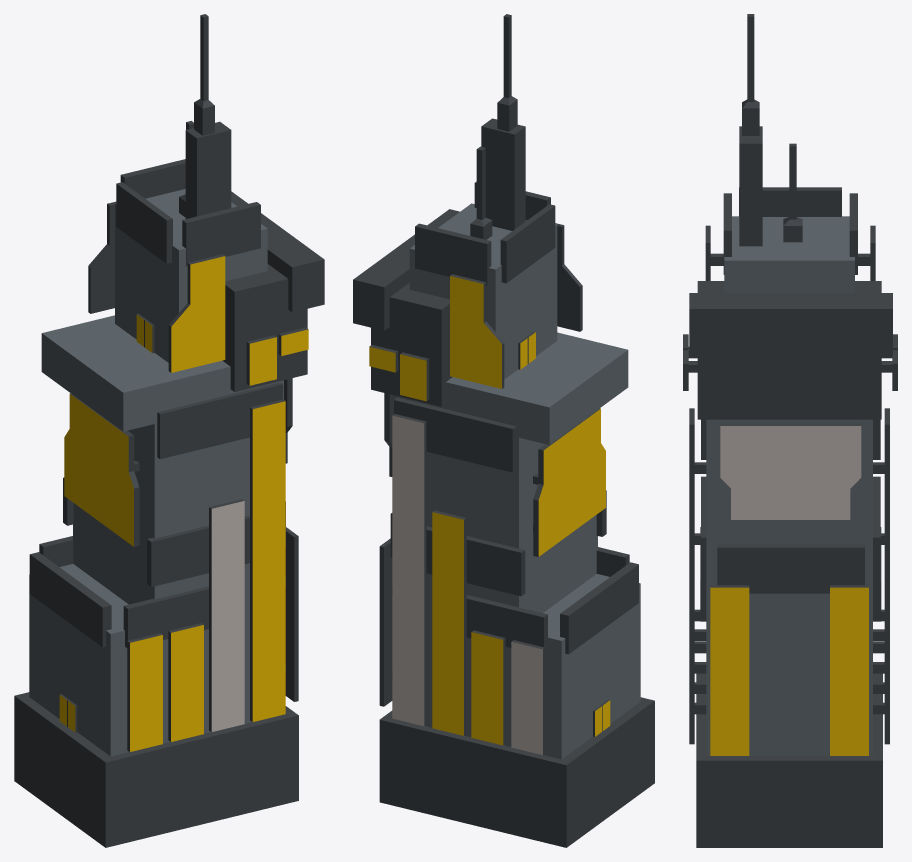
The model's file is SM_Bld_Background_Building_04.fbx.
3 renders of one model, left to right at view 1: azimuth 30°, elevation 25°; view 2: azimuth 150°, elevation 25°; view 3: azimuth 270°, elevation 25°, orthographic. The views are drawn at different scales.
Visible parts, largest first — view 1: SM_Bld_Background_Building_04; view 2: SM_Bld_Background_Building_04; view 3: SM_Bld_Background_Building_04.
Part boxes in pixels (left/top/right/bottom): SM_Bld_Background_Building_04: left=14, top=14, right=324, bottom=847; SM_Bld_Background_Building_04: left=353, top=14, right=654, bottom=847; SM_Bld_Background_Building_04: left=683, top=14, right=897, bottom=847.
Size of the model in its own units: 1939 by 6721 by 1637.
